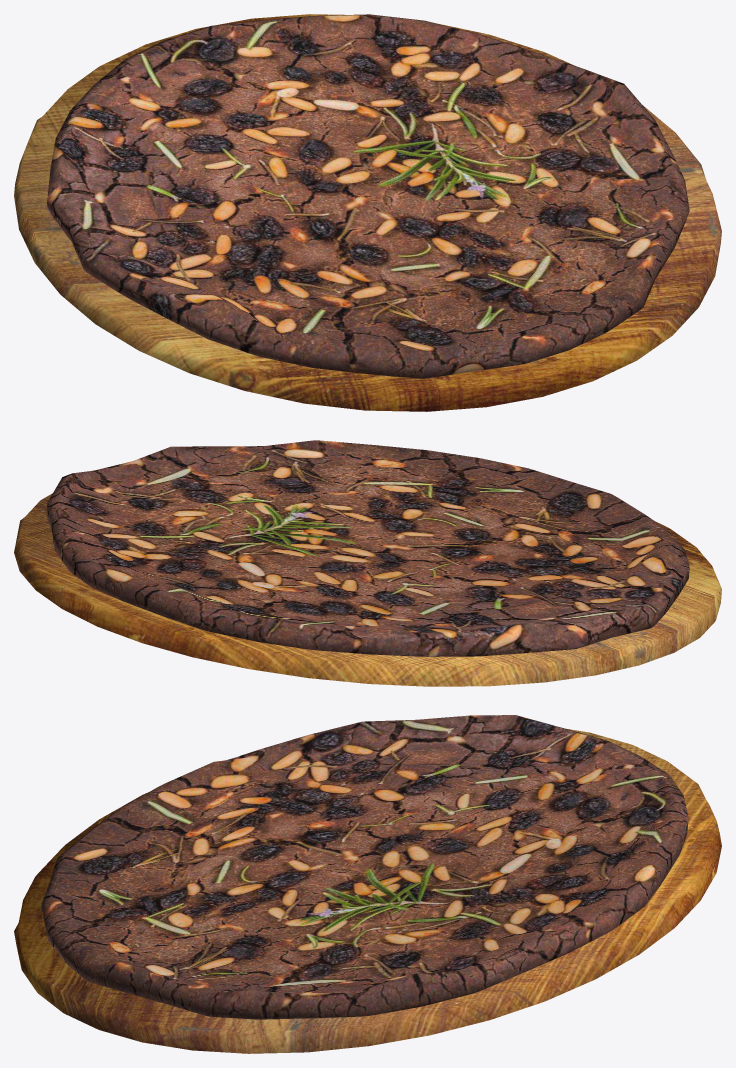
File: castanaccio.fbx
3 views of the same model, one above another, from view 1: azimuth 30°, elevation 25°; view 2: azimuth 150°, elevation 25°; view 3: azimuth 270°, elevation 25° (orthographic).
Parts seen in each view (by area): view 1: castagnaccio; view 2: castagnaccio; view 3: castagnaccio.
Part boxes in pixels (x1=…): castagnaccio: x1=14, y1=14, x2=721, y2=411; castagnaccio: x1=14, y1=440, x2=721, y2=686; castagnaccio: x1=14, y1=715, x2=721, y2=1053.
Bounding box in the file's own units: 45 × 9.14 × 44.62.
